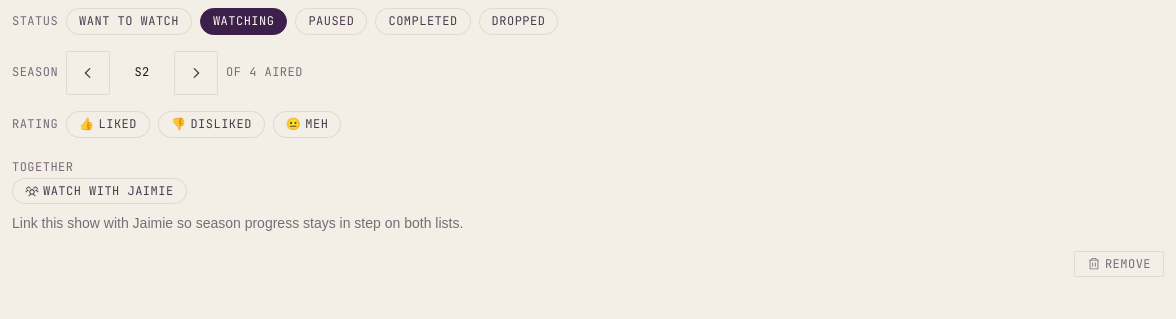
it: <ShowDetailWatchControls /> — co-watch toggle (Phase 42) › enables co-watch and surfaces the synced-state notice
Click the button "Watch with Jaimie".
click(99, 191)  # box [12,178,187,204]
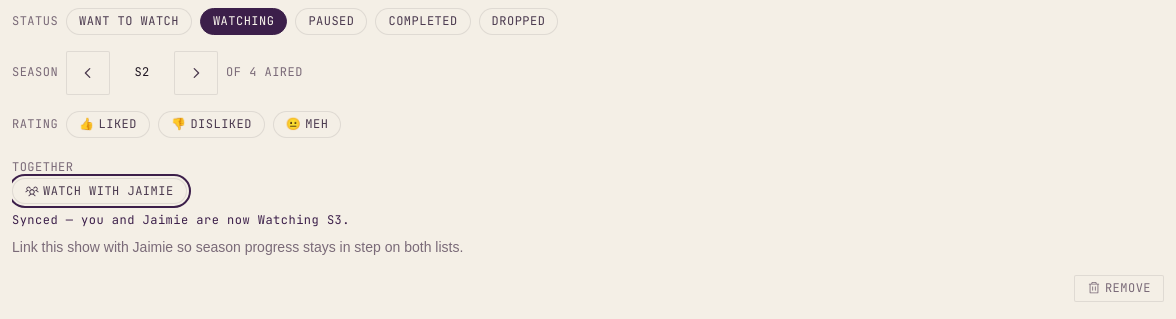
Expected: the message shows "you and Jaimie are now Watching S3", [12,212,350,228]
